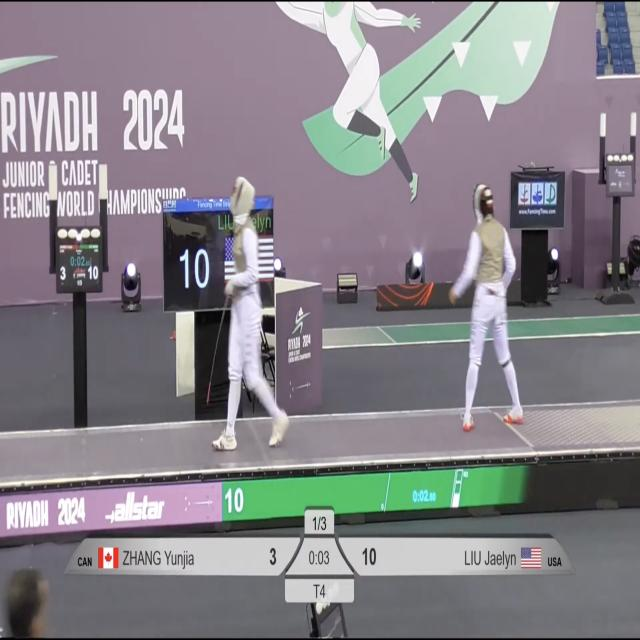fencer: (210, 164, 295, 461), (445, 177, 534, 440)
overlayLeft: (60, 534, 242, 576)
overlayRight: (391, 537, 575, 577)
scoreLeft: (246, 535, 300, 576)
scoreRight: (331, 536, 385, 576)
